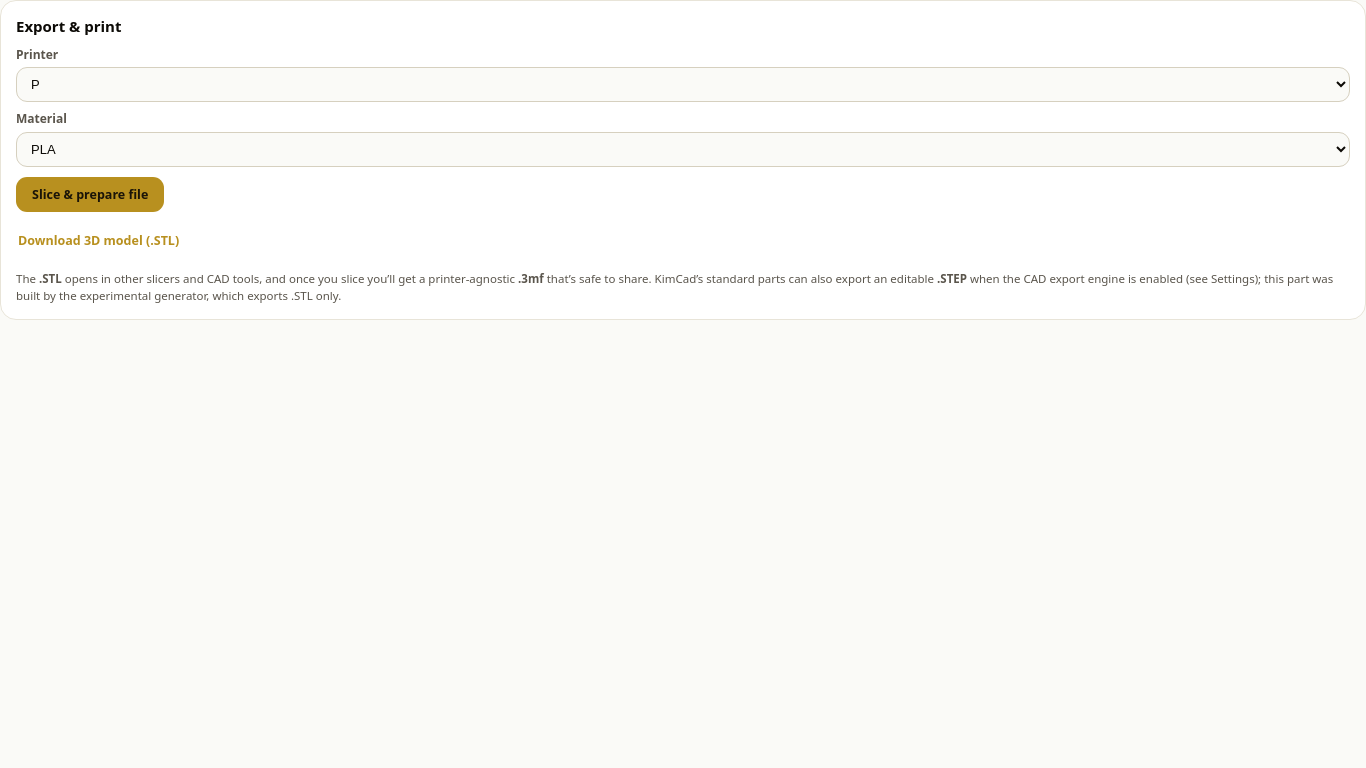
ExportPanel print summary (Slice 10) › labels the weight as an estimate when KimCad derived it from volume
Click the button "Slice & prepare file": point(90, 194) top-left (16, 176), bottom-right (164, 212)
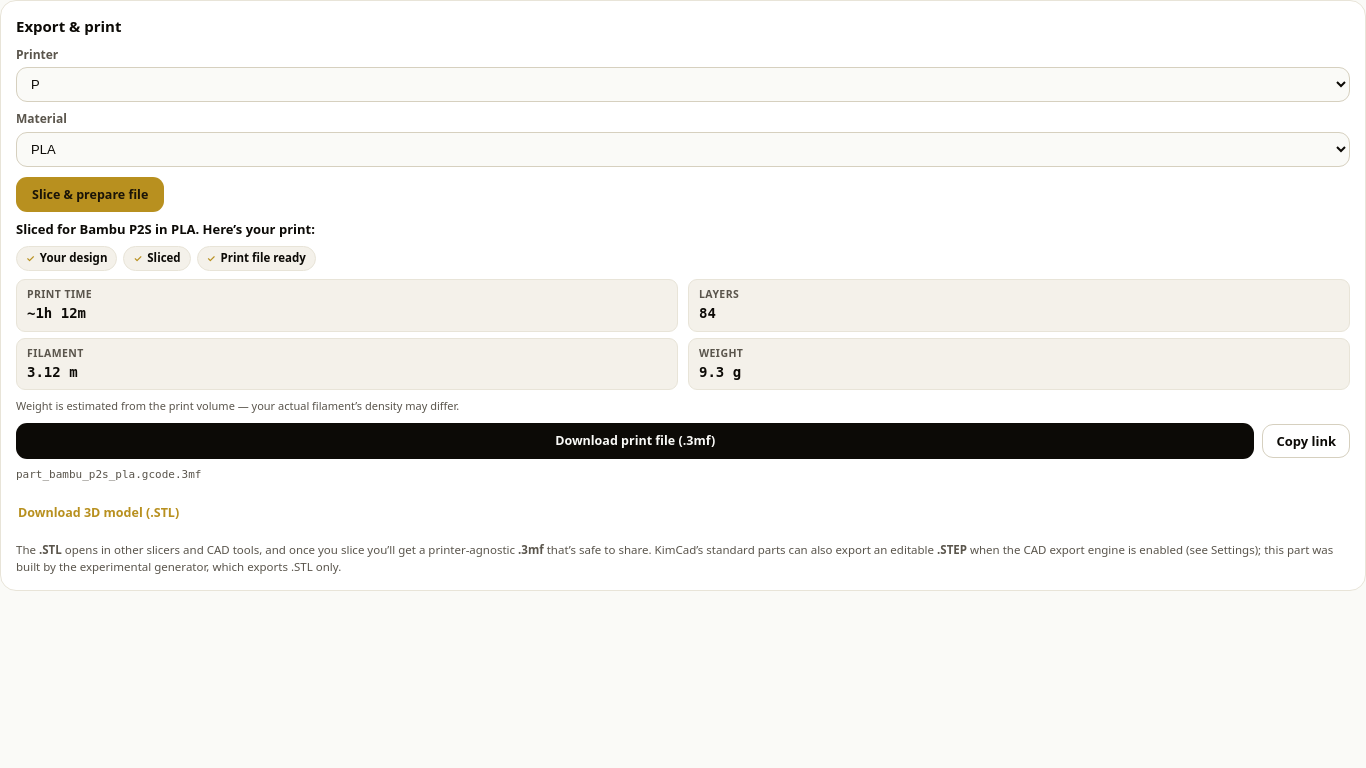
Expected: the text "9.3 g" is shown, top-left (699, 364), bottom-right (741, 380)
Expected: the text "Weight is estimated" is shown, top-left (16, 398), bottom-right (459, 413)
